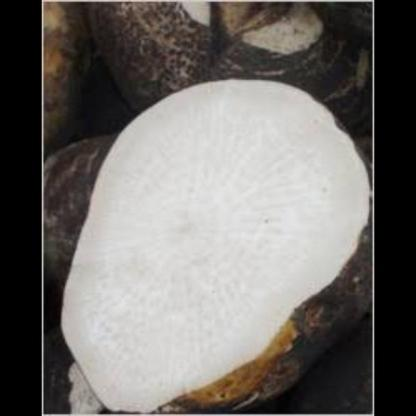redka: (56, 75, 371, 408), (85, 0, 371, 109)
